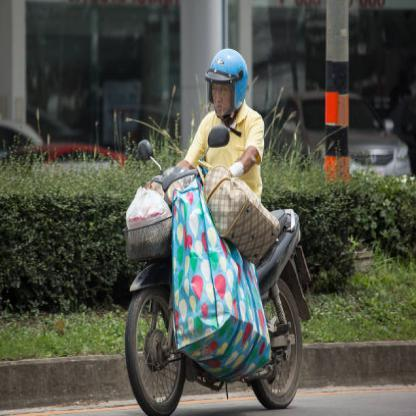Motorcycle: (118, 148, 308, 413)
